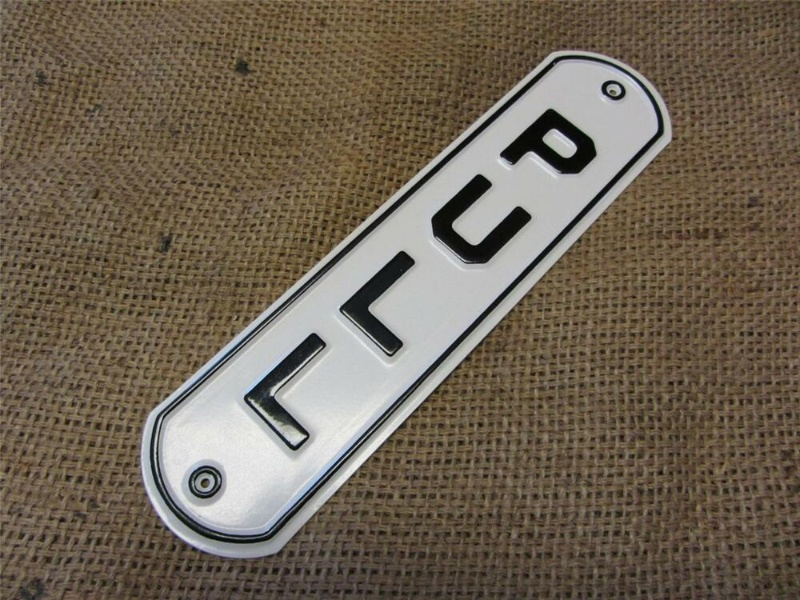letters: (235, 325, 337, 461), (430, 169, 535, 267), (336, 246, 420, 363), (496, 106, 599, 178)
